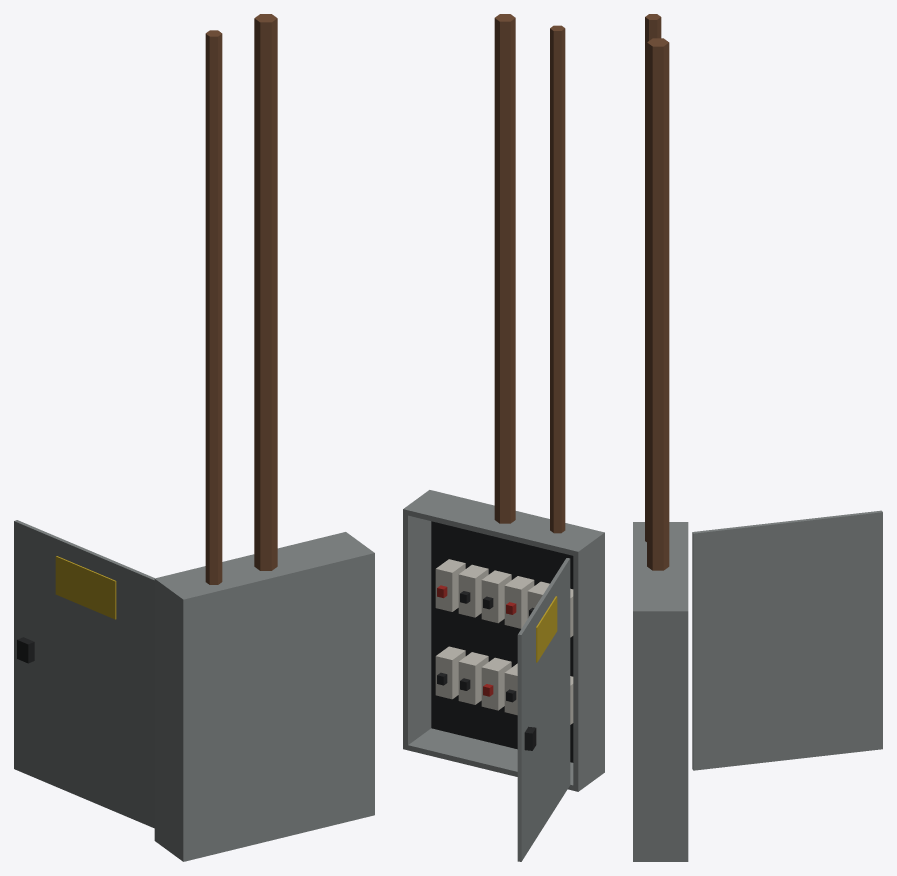
File: elec_panel.fbx
3 renders of one model, left to right at view 1: azimuth 30°, elevation 25°; view 2: azimuth 150°, elevation 25°; view 3: azimuth 270°, elevation 25°, orthographic. The views are drawn at different scales.
Visible parts, largest first — view 1: elec_panel, elec_panel_door; view 2: elec_panel, elec_panel_door; view 3: elec_panel_door, elec_panel.
Part boxes in pixels (x1=…): elec_panel: x1=154, y1=14, x2=374, y2=861; elec_panel_door: x1=14, y1=520, x2=154, y2=828; elec_panel: x1=403, y1=14, x2=604, y2=791; elec_panel_door: x1=517, y1=558, x2=570, y2=861; elec_panel_door: x1=692, y1=510, x2=882, y2=770; elec_panel: x1=633, y1=14, x2=688, y2=861.
Size of the model in its own units: 0.5159 by 1.7 by 0.4968.
